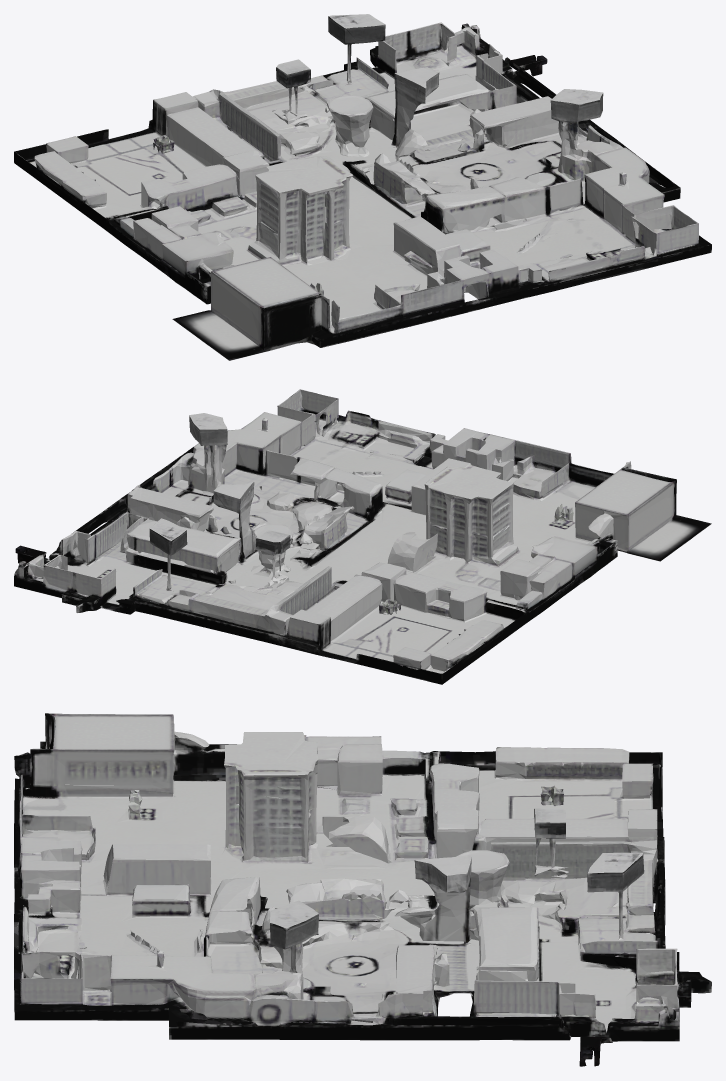
The picture shows the model from 3 angles, top to bottom: view 1: azimuth 30°, elevation 25°; view 2: azimuth 150°, elevation 25°; view 3: azimuth 270°, elevation 25°; orthographic projection. The views are drawn at different scales.
Parts seen in each view (by area): view 1: world; view 2: world; view 3: world.
Part boxes in pixels (x1=…): world: x1=14, y1=14, x2=711, y2=360; world: x1=14, y1=389, x2=711, y2=684; world: x1=14, y1=713, x2=711, y2=1066.
Size of the model in its own units: 0.9922 by 0.1491 by 0.914.
Materials: 1 (1 with a texture image).
